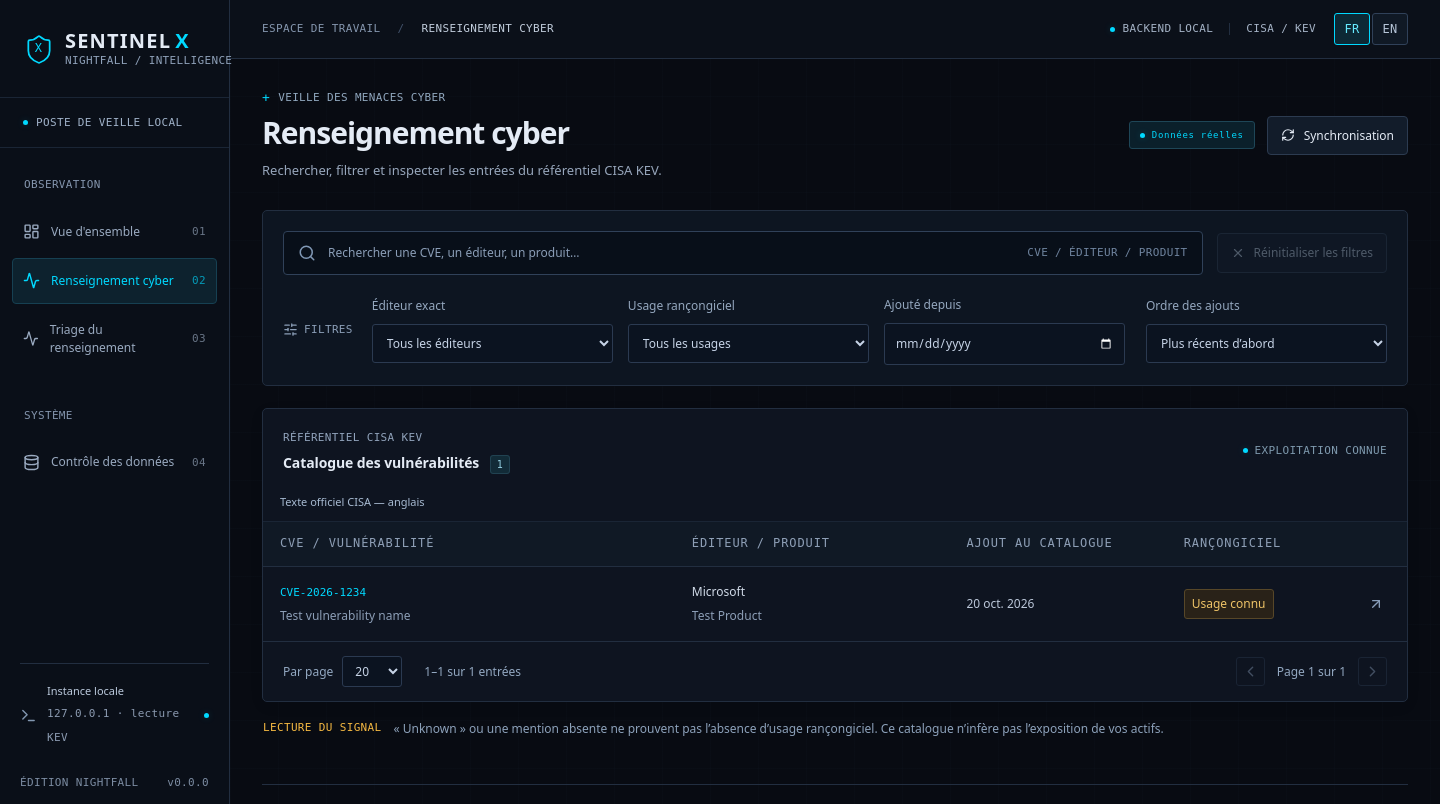
ignore une réponse ancienne même si le transport ne respecte pas abort
The image size is (1440, 804).
Type "ancien" into the search field.
click(672, 253); type("ancien")  # box [328,232,1015,274]
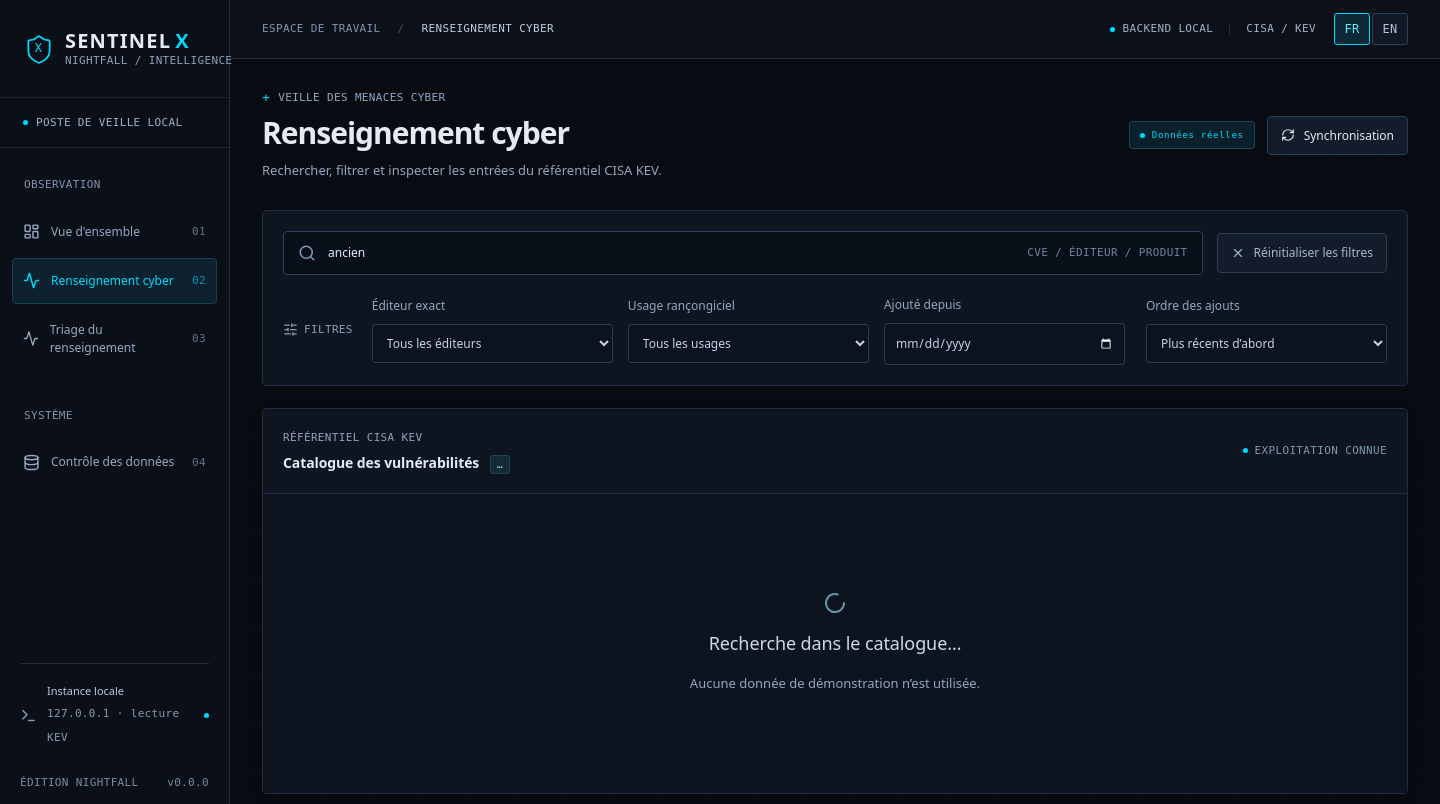
Replace the text in the search field with "récent" at coordinates (672, 253), box [328,232,1015,274]
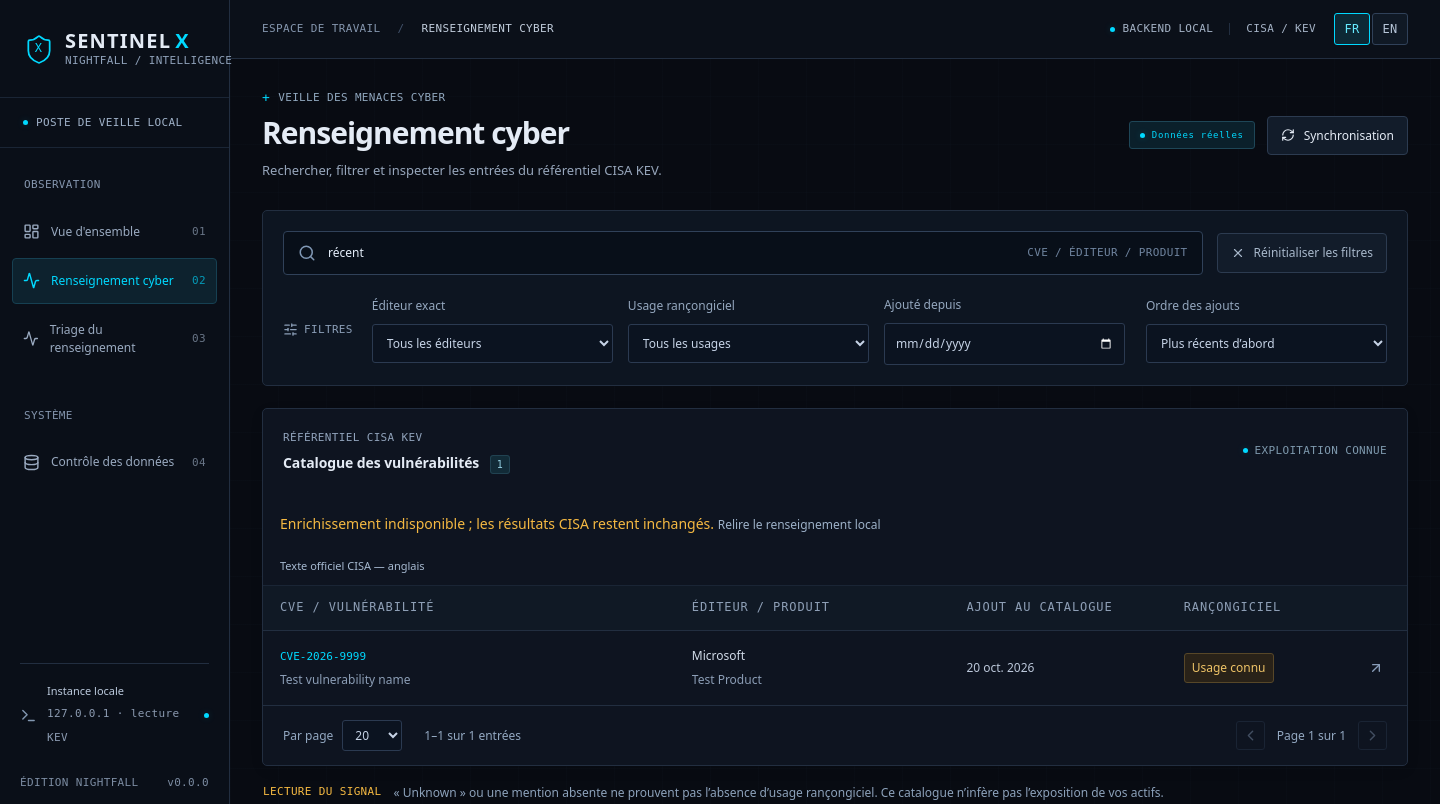
Result: the button with aria-label "Ouvrir CVE-2026-9999" is shown at [280,647,366,666]
